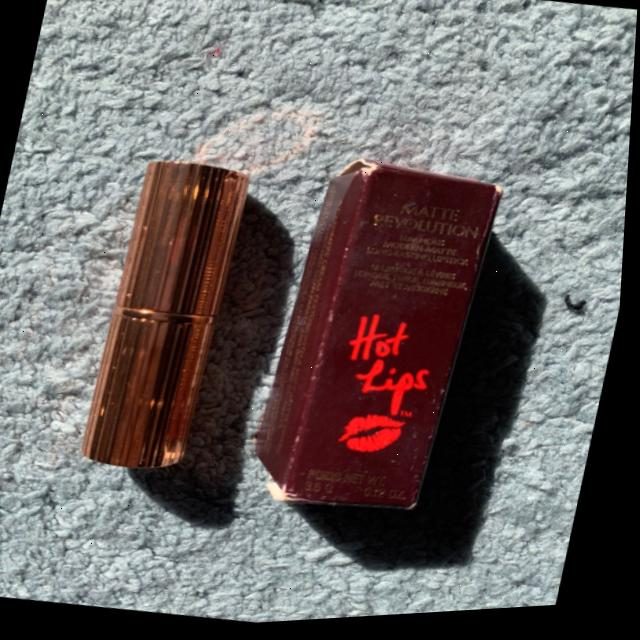lip stick: (243, 141, 534, 537), (53, 134, 276, 495)
